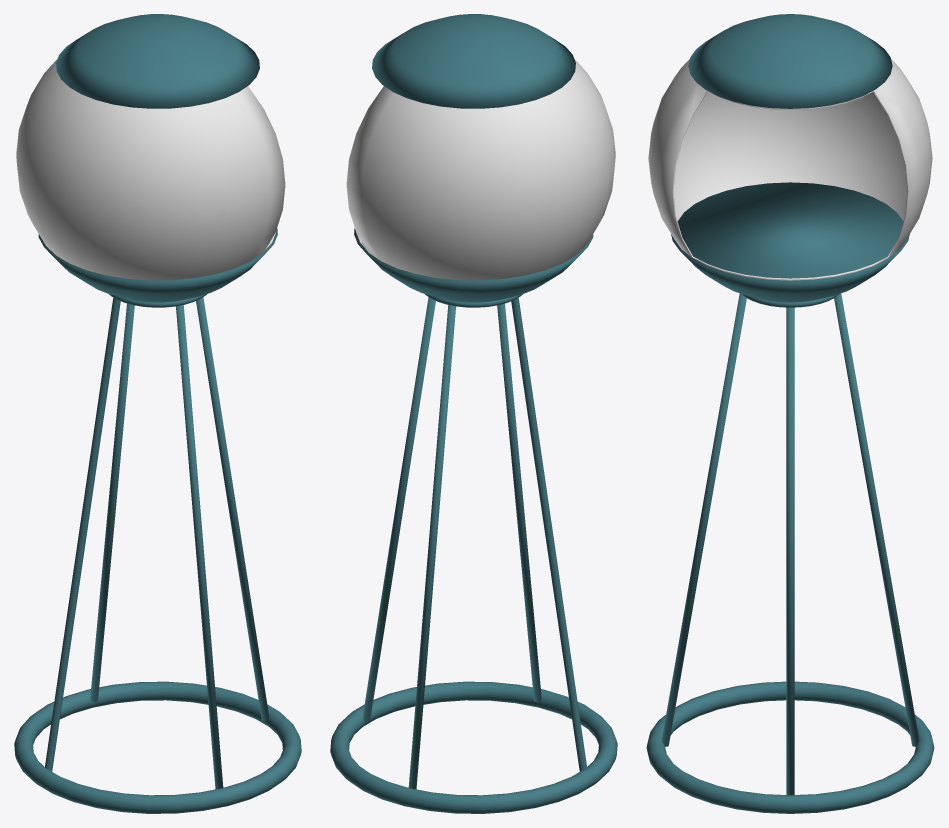
The model's file is parent_test.fbx.
3 renders of one model, left to right at view 1: azimuth 30°, elevation 25°; view 2: azimuth 150°, elevation 25°; view 3: azimuth 270°, elevation 25°, orthographic.
Parts seen in each view (by area): view 1: ball.015, circle.001, ball.005; view 2: ball.015, circle.001, ball.005; view 3: ball.005, ball.015, circle.001.
Part boxes in pixels (left/top/right/bottom): ball.015: left=16, top=59, right=285, bottom=280; circle.001: left=14, top=294, right=301, bottom=813; ball.005: left=38, top=14, right=277, bottom=302; ball.015: left=346, top=59, right=615, bottom=280; circle.001: left=330, top=294, right=617, bottom=813; ball.005: left=354, top=14, right=593, bottom=302; ball.005: left=671, top=14, right=909, bottom=302; ball.015: left=648, top=59, right=932, bottom=280; circle.001: left=646, top=293, right=934, bottom=813.
Bounding box in the file's own units: 553 × 1545 × 553.
